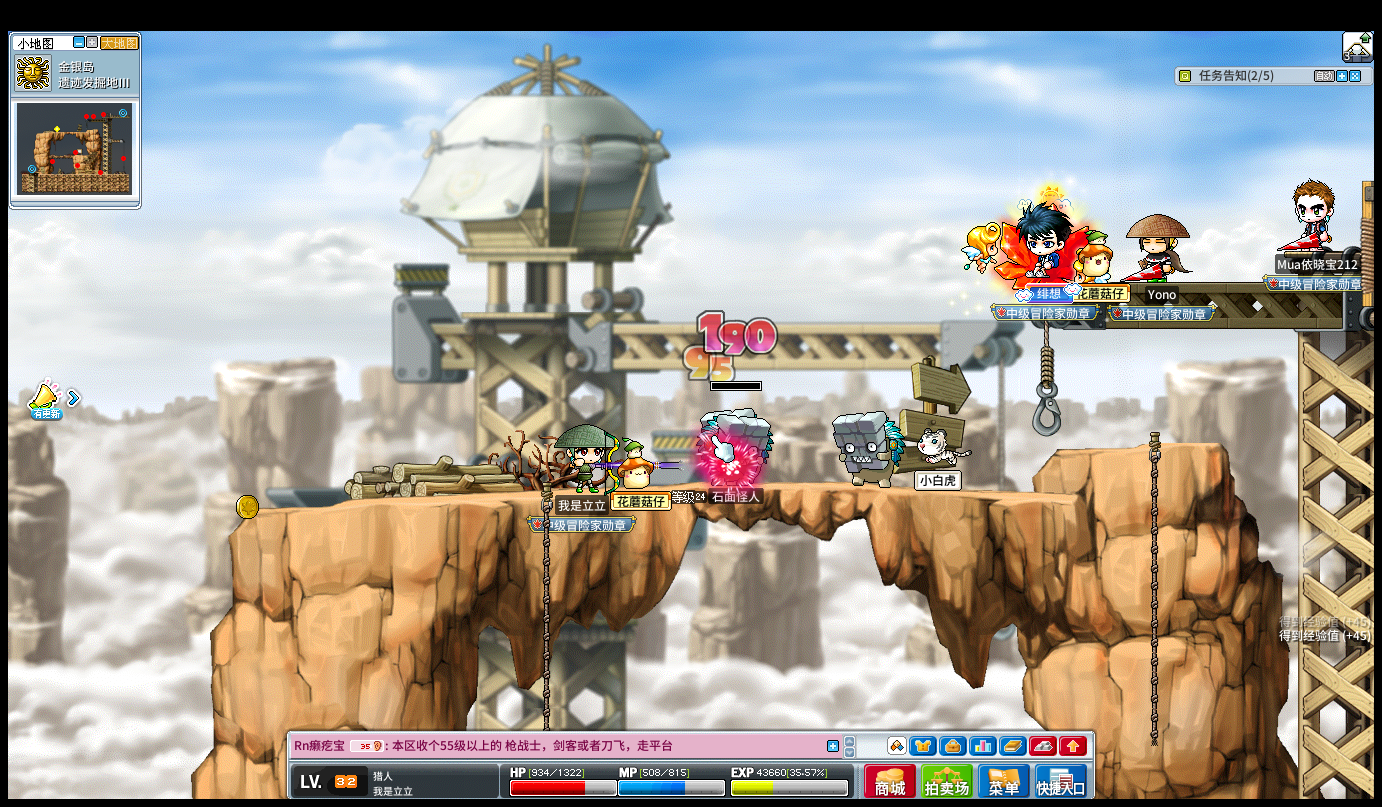floor: (211, 476, 1115, 501), (1052, 437, 1225, 453), (1052, 440, 1228, 455)
monster: (831, 410, 903, 487), (699, 410, 774, 483)
rope: (1145, 425, 1161, 753), (539, 479, 551, 704)
